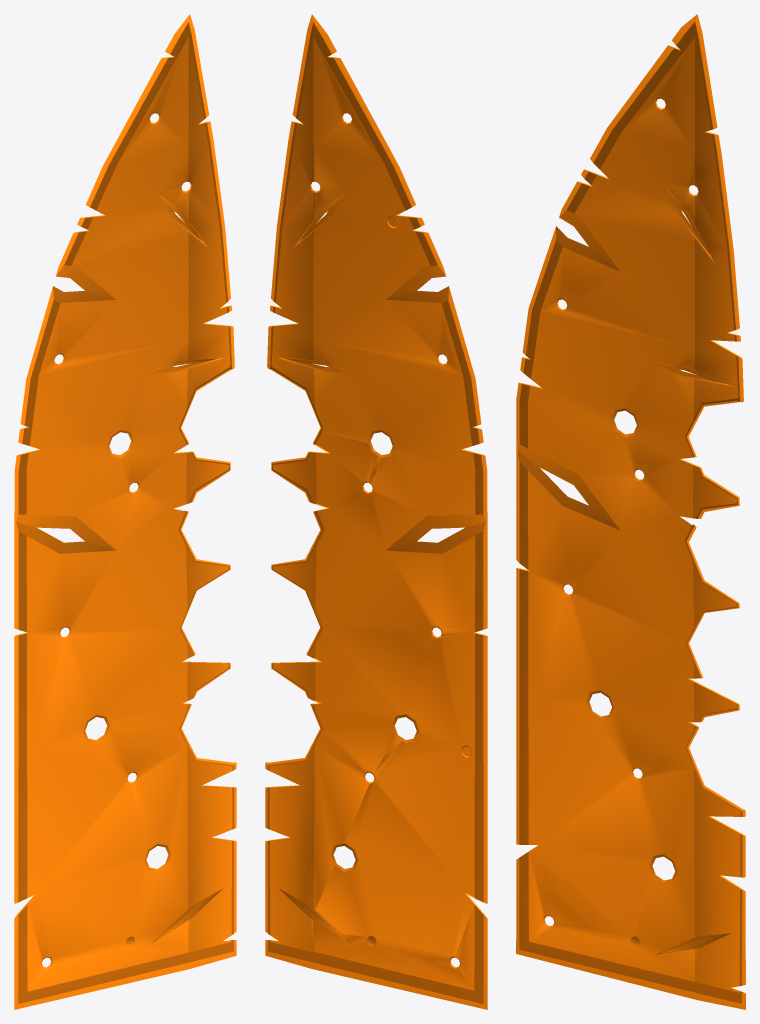
Rendered from bronze_blade_bubbles_042.glb.
3 renders of one model, left to right at view 1: azimuth 30°, elevation 25°; view 2: azimuth 150°, elevation 25°; view 3: azimuth 330°, elevation 25°, orthographic. The views are drawn at different scales.
Visible parts, largest first — view 1: bronze_blade_bubbles.042; view 2: bronze_blade_bubbles.042; view 3: bronze_blade_bubbles.042.
Boxes of the visible parts, x1=… form: bronze_blade_bubbles.042: x1=14, y1=14, x2=236, y2=1009; bronze_blade_bubbles.042: x1=265, y1=14, x2=487, y2=1009; bronze_blade_bubbles.042: x1=516, y1=14, x2=745, y2=1009.
Bounding box in the file's own units: 2.79 × 11.43 × 0.0204.
Materials: 1 (1 with a texture image).
